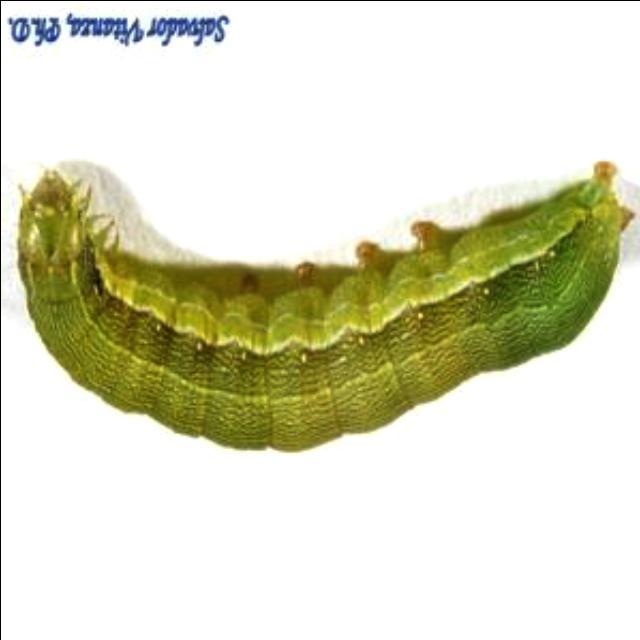Beet armyworm: (0, 103, 626, 494)
